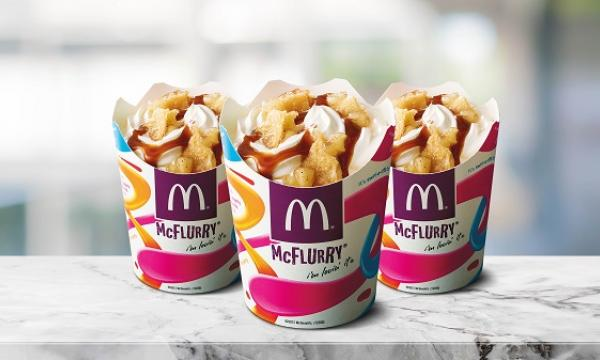mcdonalds: (281, 195, 329, 236), (400, 181, 449, 216), (165, 182, 208, 215)
